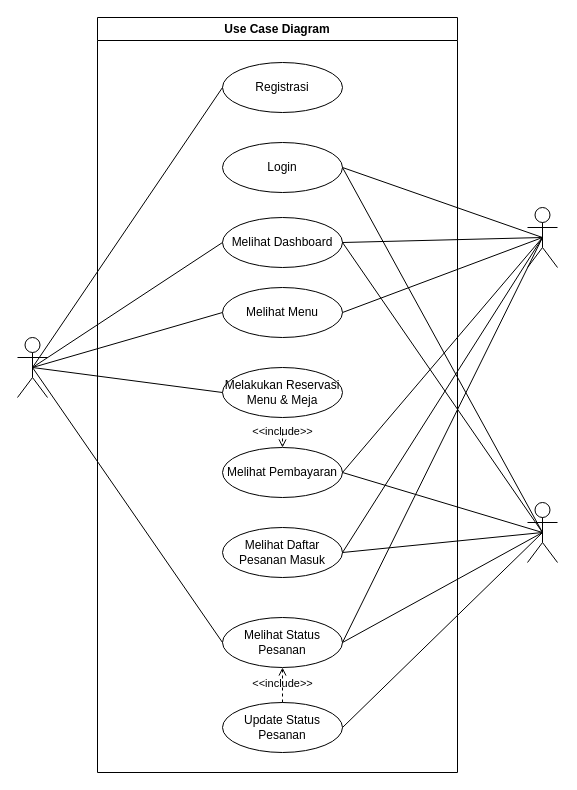
Image size: 577x790. Some labels were removed from this diagram. Here are the shapes that lost their labels. From the top down, the centre of each, then its label:
At point 542,237: "Admin".
At point 32,367: "User".
At point 542,532: "Waiter".
